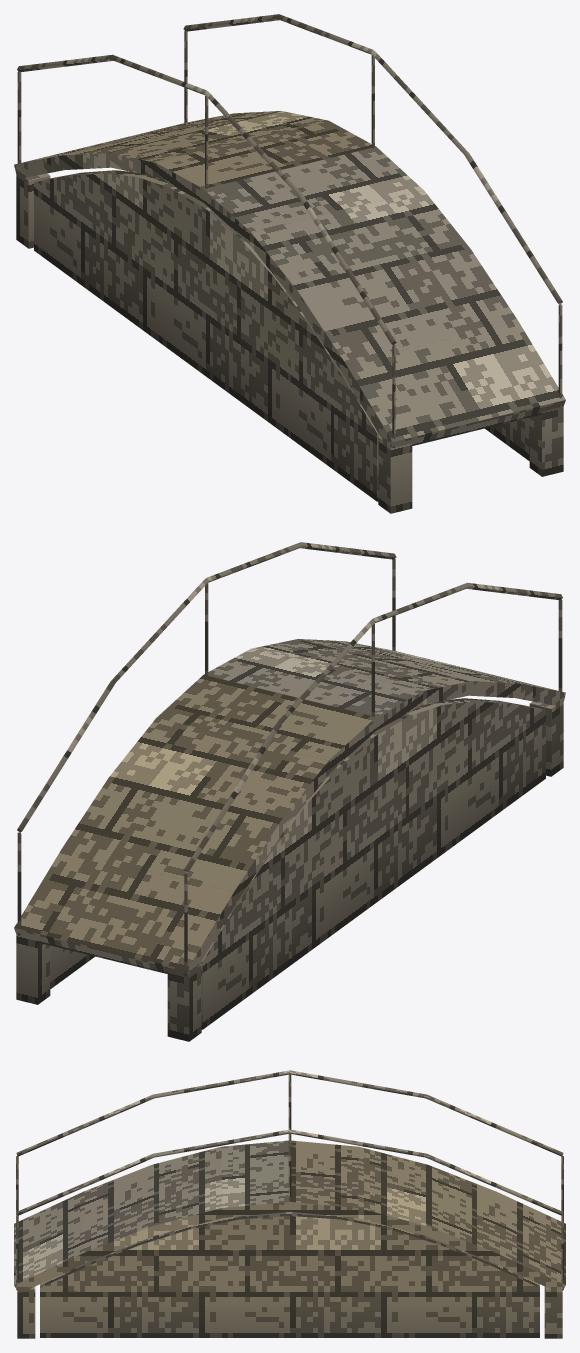
File: arch.bridge.glb
3 renders of one model, top to bottom at view 1: azimuth 30°, elevation 25°; view 2: azimuth 150°, elevation 25°; view 3: azimuth 270°, elevation 25°, orthographic. The views are drawn at different scales.
Visible parts, largest first — view 1: kit_bridge_deck, kit_bridge_supports, kit_bridge_rail; view 2: kit_bridge_deck, kit_bridge_supports, kit_bridge_rail; view 3: kit_bridge_supports, kit_bridge_deck, kit_bridge_rail.
Part boxes in pixels (x1,y1,x2,y2): kit_bridge_deck: [14, 111, 565, 451]; kit_bridge_supports: [16, 170, 563, 513]; kit_bridge_rail: [17, 14, 562, 447]; kit_bridge_deck: [14, 639, 565, 978]; kit_bridge_supports: [16, 698, 563, 1041]; kit_bridge_rail: [17, 542, 562, 975]; kit_bridge_supports: [17, 1212, 562, 1338]; kit_bridge_deck: [14, 1140, 565, 1293]; kit_bridge_rail: [16, 1070, 563, 1289].
Bounding box in the file's own units: 1.6 × 2.53 × 6.07.
1 material, 1 textured.
